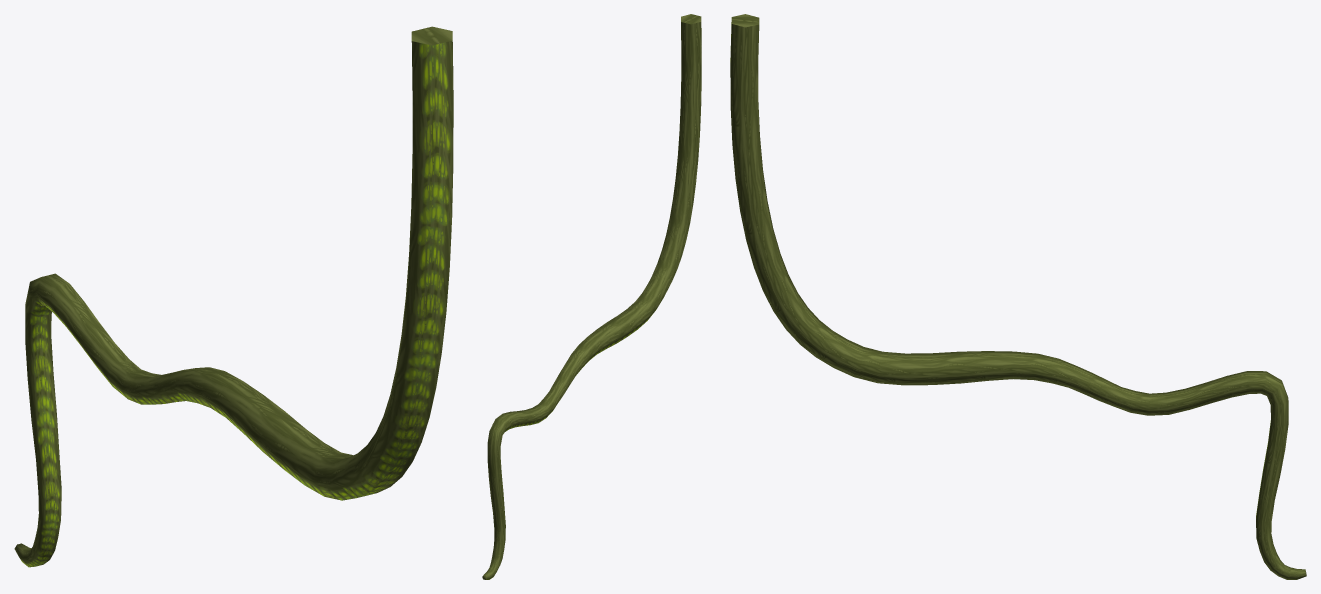
File: tt_forest_root02.FBX
The picture shows the model from 3 angles, left to right: view 1: azimuth 30°, elevation 25°; view 2: azimuth 150°, elevation 25°; view 3: azimuth 270°, elevation 25°; orthographic projection. The views are drawn at different scales.
Visible parts, largest first — view 1: tt_forest_root02; view 2: tt_forest_root02; view 3: tt_forest_root02.
Boxes of the visible parts, left/top/right/bottom form: tt_forest_root02: left=14, top=26, right=453, bottom=567; tt_forest_root02: left=482, top=14, right=701, bottom=579; tt_forest_root02: left=730, top=14, right=1306, bottom=579.
Size of the model in its own units: 80 by 1540 by 1440.
